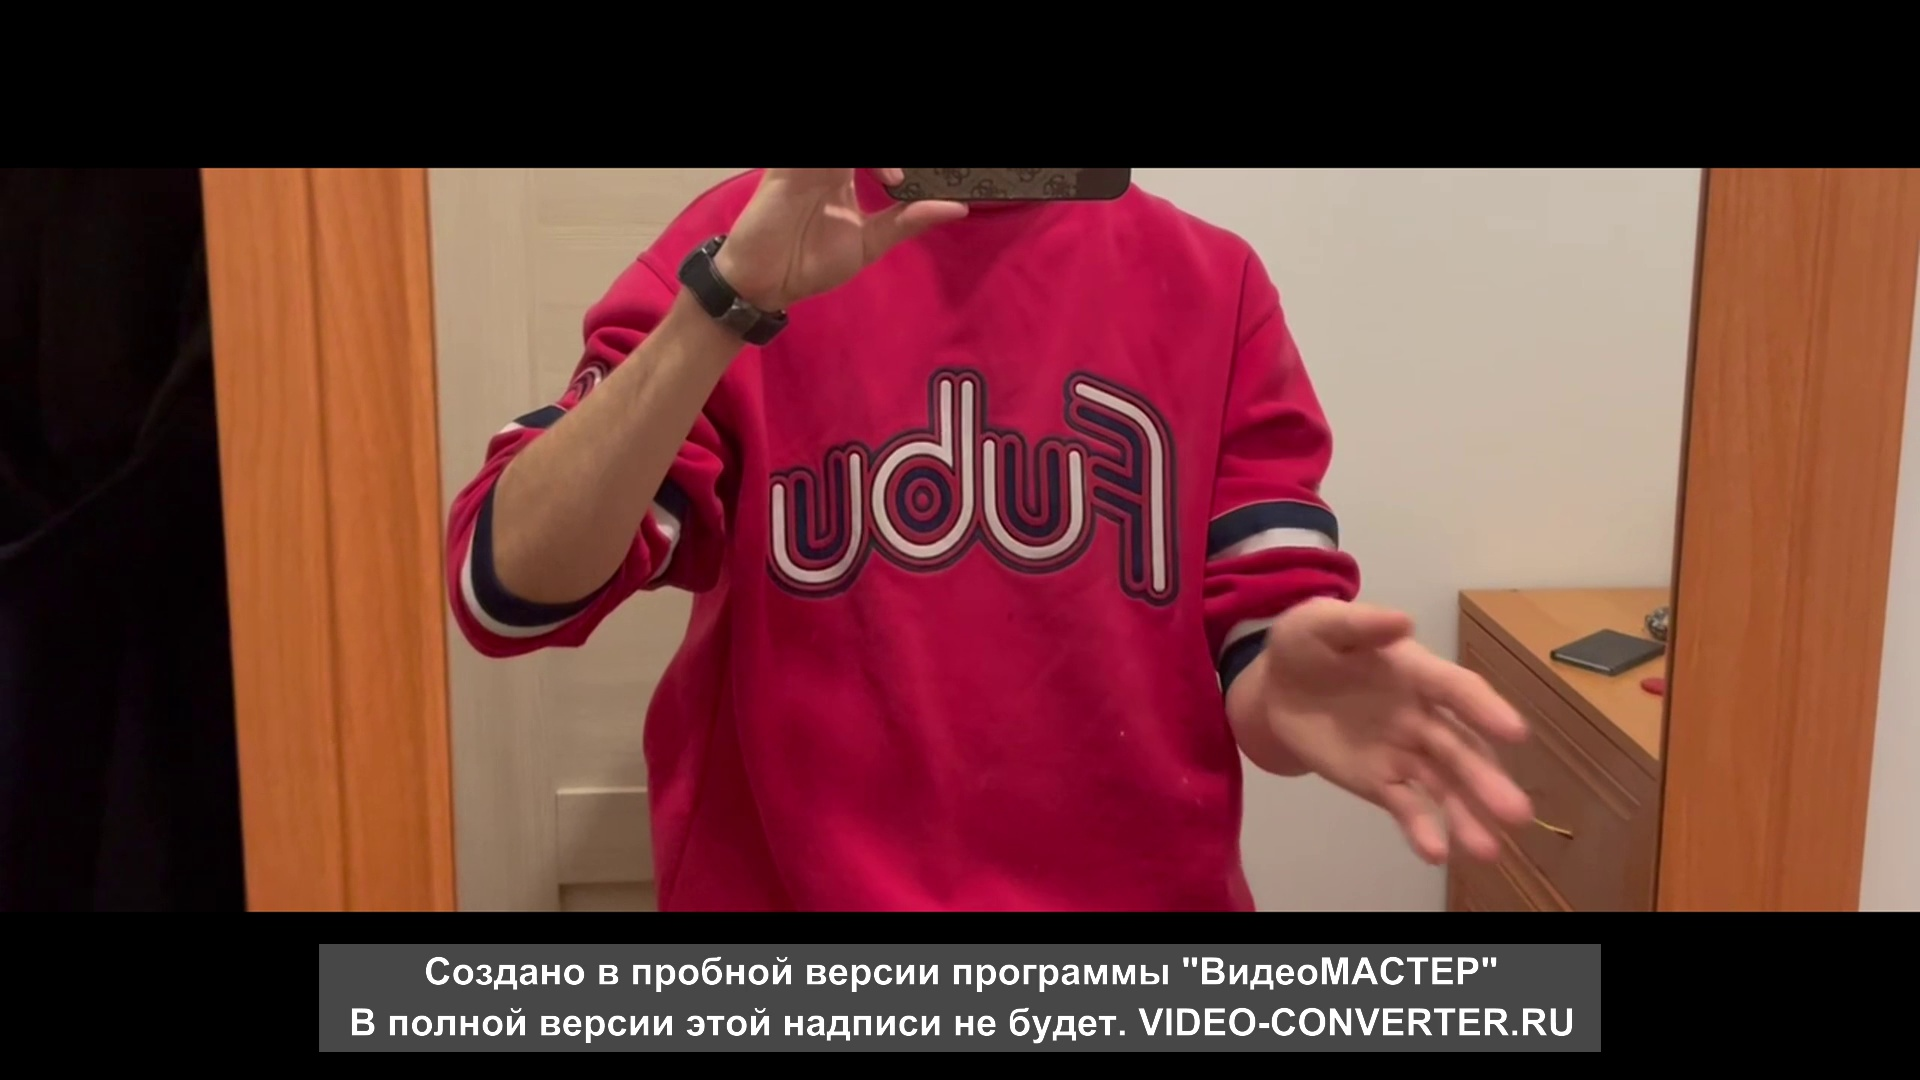Ладонь: (1271, 596, 1532, 861)
